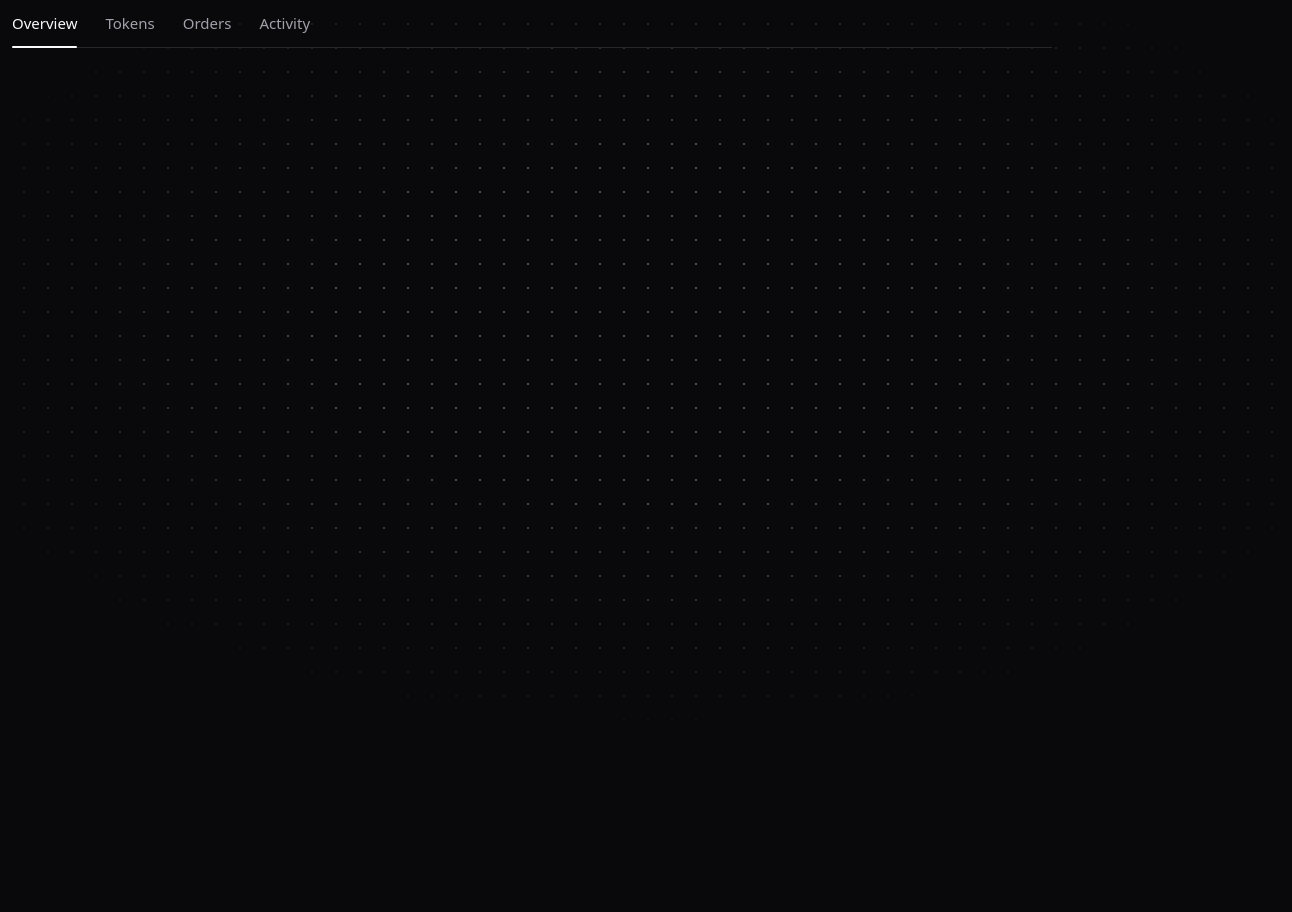
Scenario: shows a resting buy and crossing sell as one buy and one sell
The image size is (1292, 912).
Step 1. Click the tab "Activity" → [285, 29], box top-left (259, 12), bottom-right (310, 46)
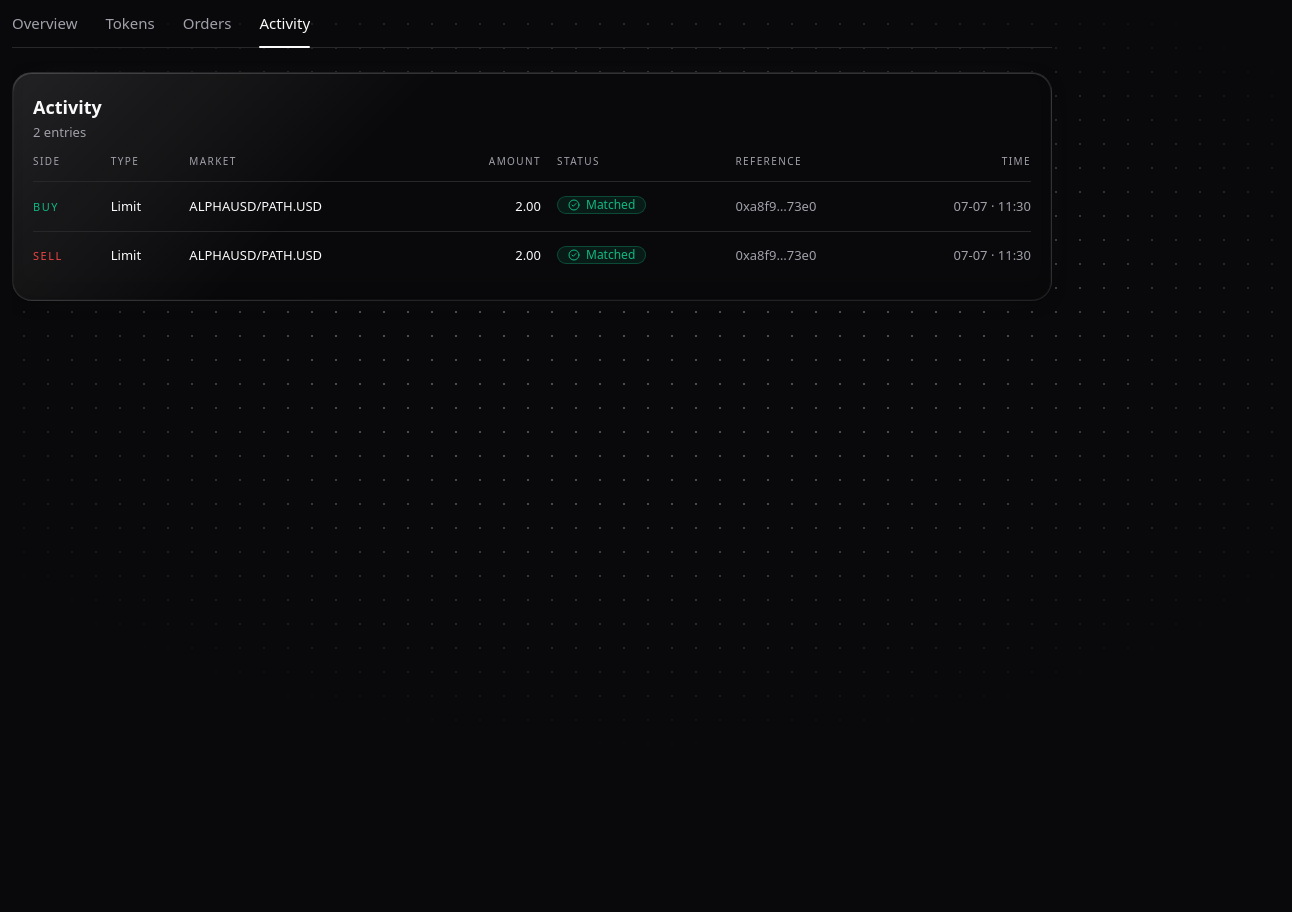
Expected: the text "2 entries" is shown, top-left (33, 122), bottom-right (86, 140)
